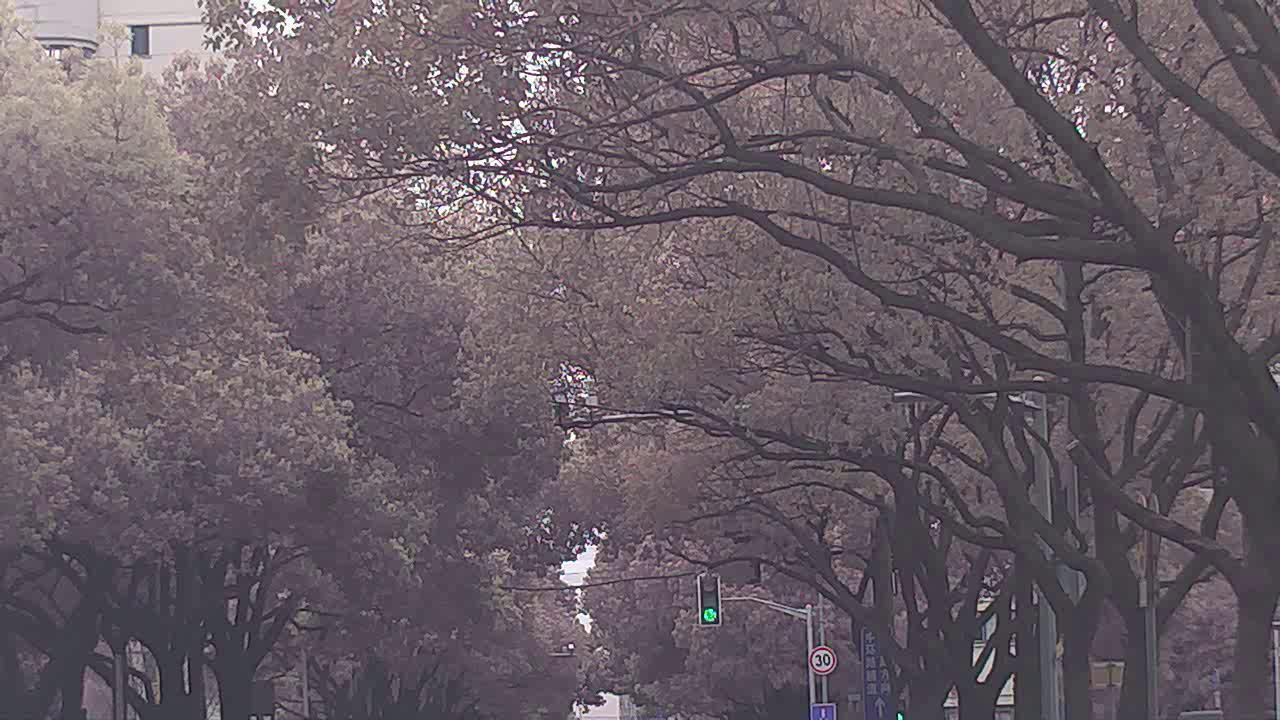traffic_light: (701, 574, 721, 627)
